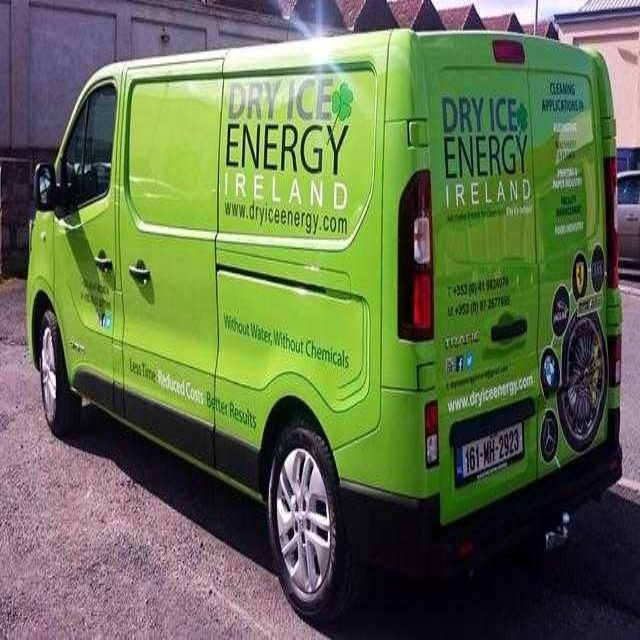Van: (27, 29, 624, 622)
